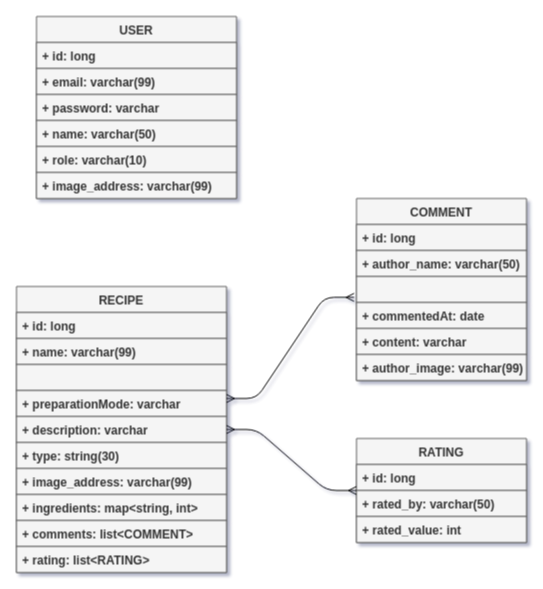
This 543x589 diagram has some shape labels left out. The centre of each missing label's shape, as x and y in pixels:
"+ author_email: varchar(50)" belongs at point 441,289.
"+ preparationTime: int" belongs at point 121,377.
